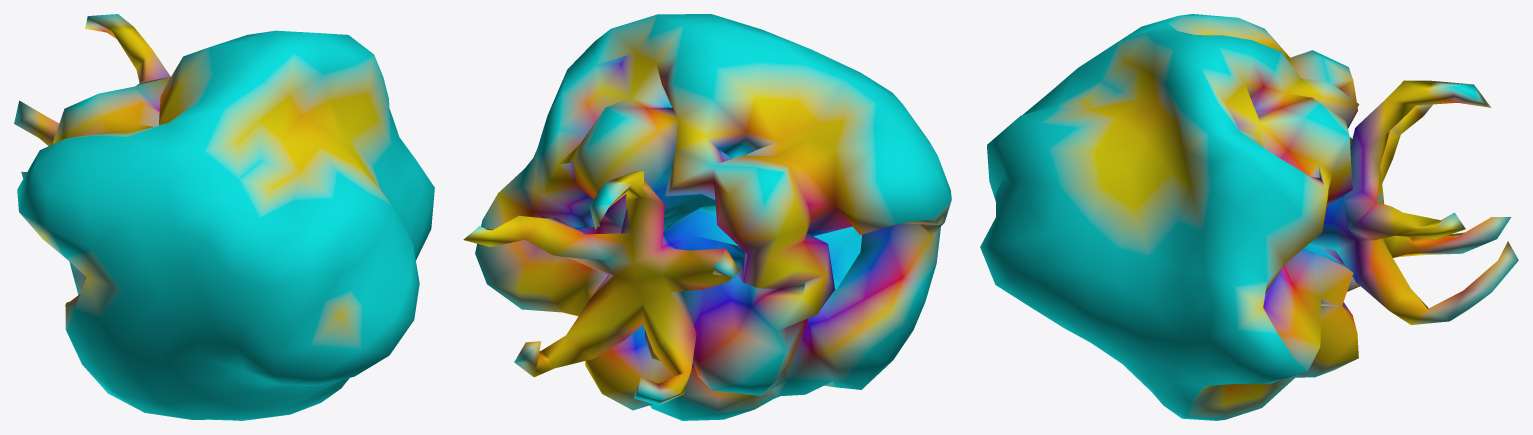
Rendered from jelly_9.gltf.
3 renders of one model, left to right at view 1: azimuth 30°, elevation 25°; view 2: azimuth 150°, elevation 25°; view 3: azimuth 270°, elevation 25°, orthographic. The views are drawn at different scales.
Visible parts, largest first — view 1: jellysquid3; view 2: jellysquid3; view 3: jellysquid3.
Part boxes in pixels (x1,y1,x2,y2): jellysquid3: [14, 14, 434, 420]; jellysquid3: [463, 14, 951, 420]; jellysquid3: [980, 14, 1518, 420].
Size of the model in its own units: 5.25 by 4.43 by 5.83.
